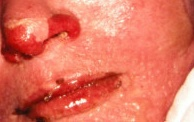SJS-TEN: (7, 60, 140, 122), (0, 5, 89, 71)
